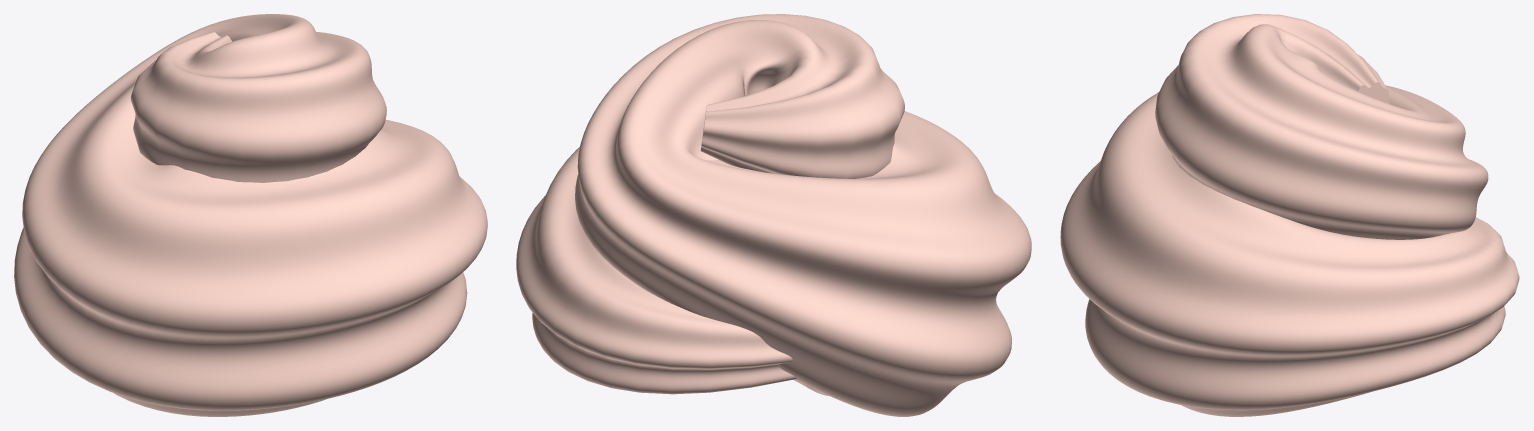
The model's file is Cream.fbx.
3 views of the same model, side by side, from view 1: azimuth 30°, elevation 25°; view 2: azimuth 150°, elevation 25°; view 3: azimuth 270°, elevation 25° (orthographic). The views are drawn at different scales.
Parts seen in each view (by area): view 1: Cream.006; view 2: Cream.006; view 3: Cream.006.
Boxes of the visible parts, x1,y1,x2,y2 form: Cream.006: (14,14,487,416); Cream.006: (516,14,1031,416); Cream.006: (1060,14,1519,416).
Bounding box in the file's own units: 248 × 190 × 229.
